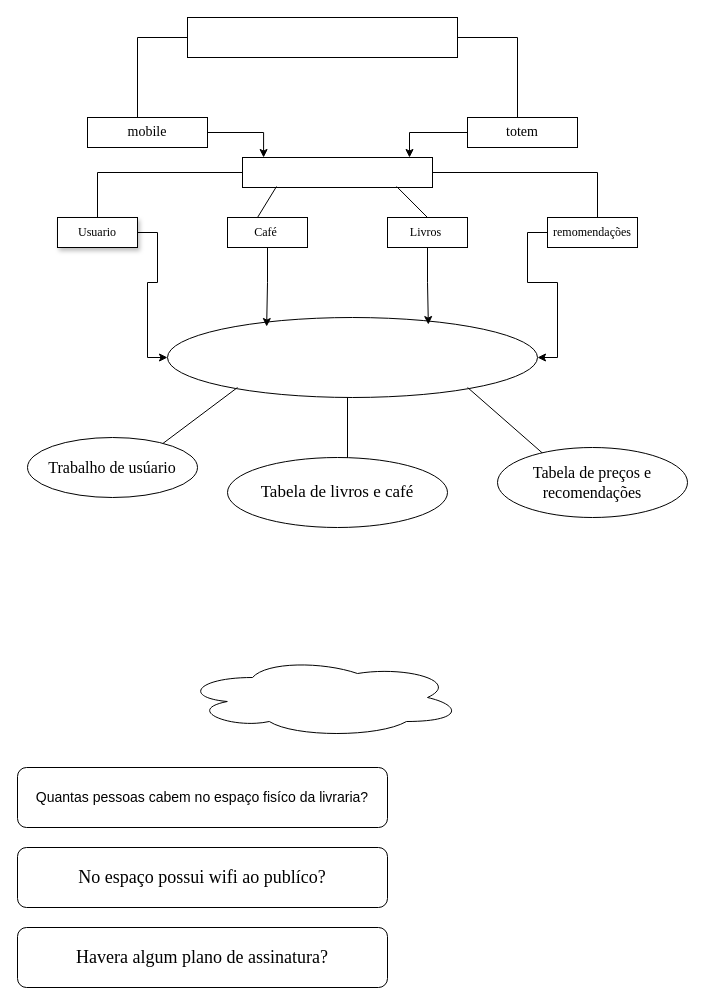
The diagram is 705 pixels wide and 1005 high, and some of its shapes have lost their labels. Here are the shapes that lost their labels. From the top down, the centre of each, then its label:
At point (322, 37): "Camada de apresentação".
At point (337, 172): "Camada de aplicação".
At point (352, 357): "Banco de dados".
At point (322, 697): "Perguntas".
